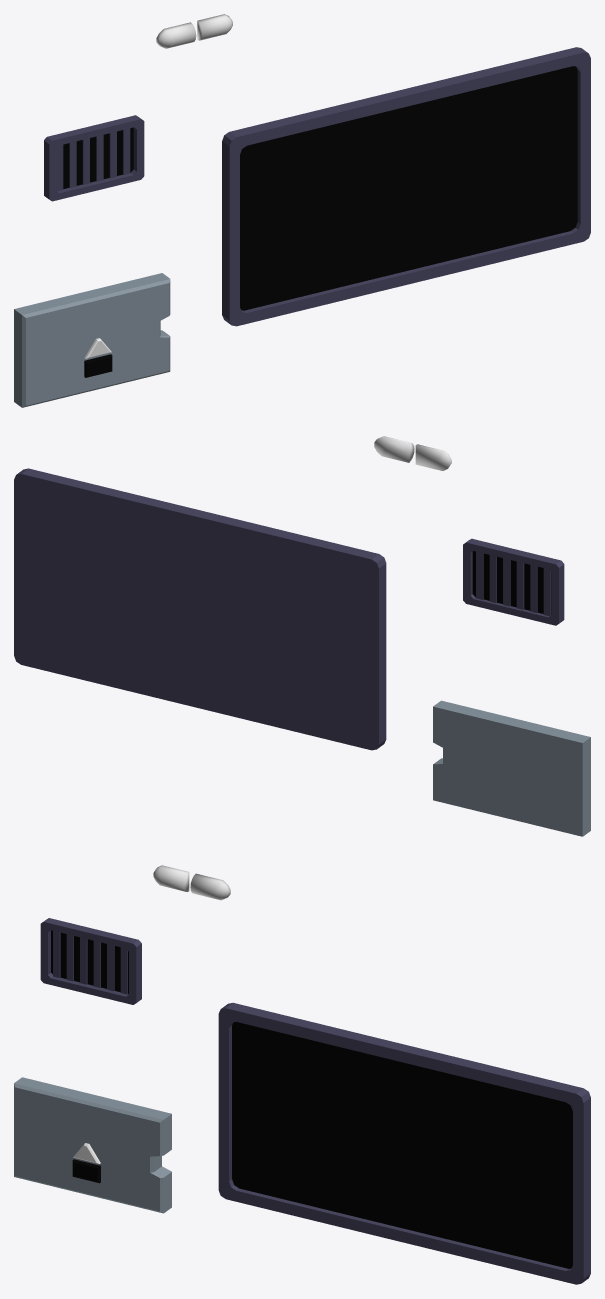
The model's file is MapProp.fbx.
3 renders of one model, top to bottom at view 1: azimuth 30°, elevation 25°; view 2: azimuth 150°, elevation 25°; view 3: azimuth 330°, elevation 25°, orthographic.
Parts seen in each view (by area): view 1: Cube.001, Cube.002, Cube.004, Cube.003; view 2: Cube.001, Cube.002, Cube.004, Cube.003; view 3: Cube.001, Cube.002, Cube.004, Cube.003.
Boxes of the visible parts, bbox=[...] form: Cube.001: bbox=[222, 47, 590, 326]; Cube.002: bbox=[14, 273, 170, 407]; Cube.004: bbox=[44, 115, 144, 201]; Cube.003: bbox=[156, 14, 232, 48]; Cube.001: bbox=[14, 468, 386, 750]; Cube.002: bbox=[433, 700, 590, 836]; Cube.004: bbox=[463, 538, 564, 625]; Cube.003: bbox=[374, 436, 451, 470]; Cube.001: bbox=[218, 1002, 590, 1284]; Cube.002: bbox=[14, 1077, 171, 1213]; Cube.004: bbox=[40, 918, 141, 1004]; Cube.003: bbox=[153, 865, 230, 900].
Size of the model in its own units: 526 by 303 by 18.56.
